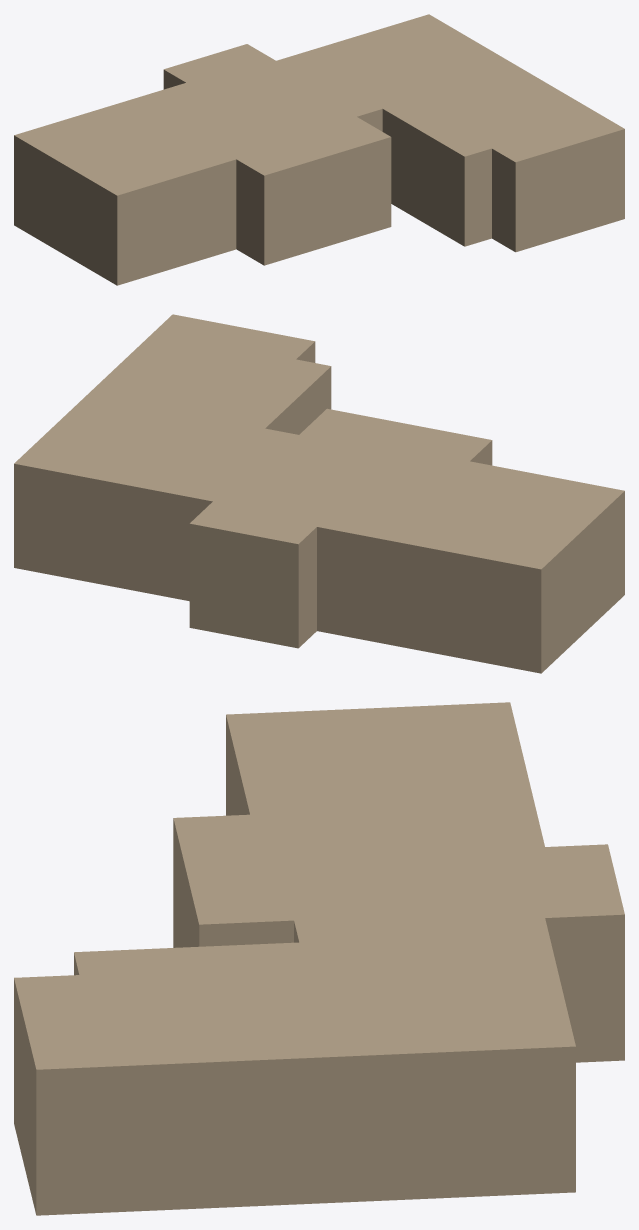
File: bld_353211797.dae
3 views of the same model, one above another, from view 1: azimuth 30°, elevation 25°; view 2: azimuth 150°, elevation 25°; view 3: azimuth 270°, elevation 25° (orthographic). The views are drawn at different scales.
Visible parts, largest first — view 1: bld_353211797; view 2: bld_353211797; view 3: bld_353211797.
Part boxes in pixels (x1=…): bld_353211797: x1=14, y1=14, x2=624, y2=285; bld_353211797: x1=14, y1=314, x2=624, y2=673; bld_353211797: x1=14, y1=702, x2=624, y2=1215.
Bounding box in the file's own units: 43.21 × 30.36 × 8.
